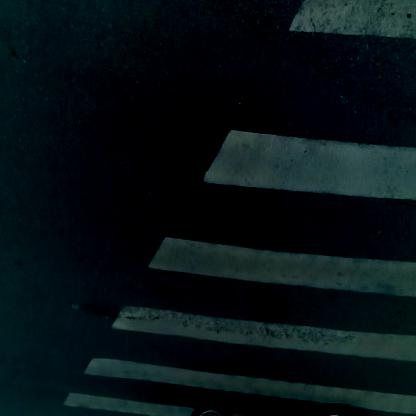crosswalk: (87, 2, 416, 389)
